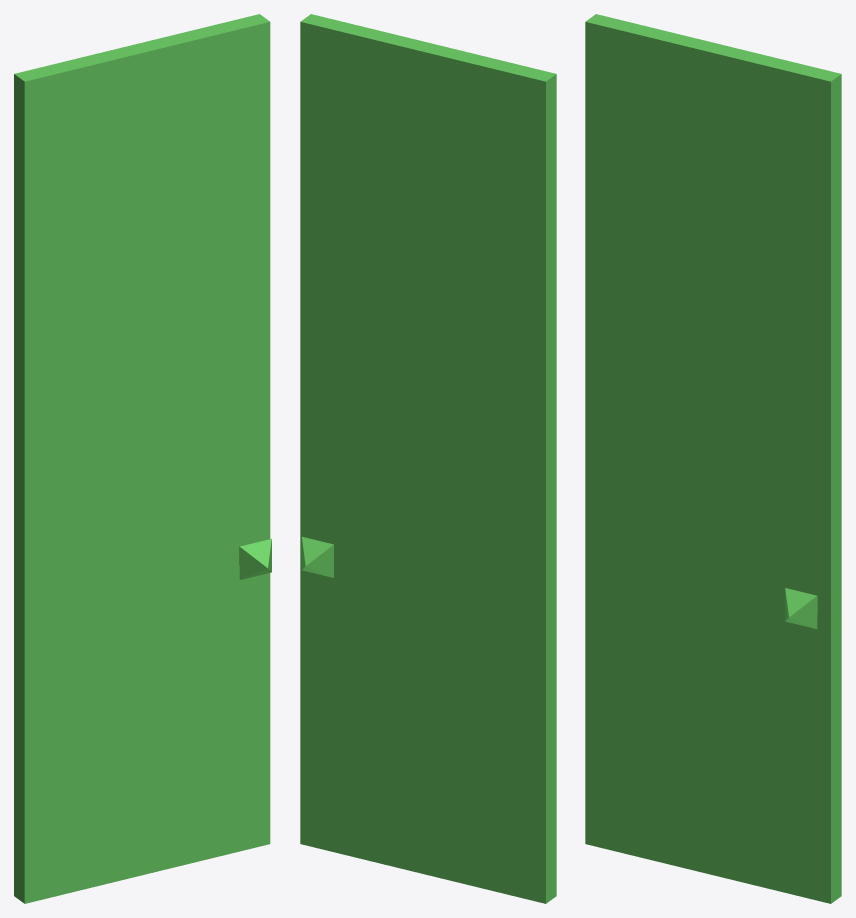
Rendered from Gen_Door_B_Fr_Side1.fbx.
3 views of the same model, side by side, from view 1: azimuth 30°, elevation 25°; view 2: azimuth 150°, elevation 25°; view 3: azimuth 330°, elevation 25° (orthographic).
Visible parts, largest first — view 1: Gen_Door_B_Fr_Side1; view 2: Gen_Door_B_Fr_Side1; view 3: Gen_Door_B_Fr_Side1.
Part boxes in pixels (x1,y1,x2,y2): Gen_Door_B_Fr_Side1: (14,14,271,903); Gen_Door_B_Fr_Side1: (300,14,556,903); Gen_Door_B_Fr_Side1: (585,14,841,903).
Size of the model in its own units: 100 by 320 by 33.3.
